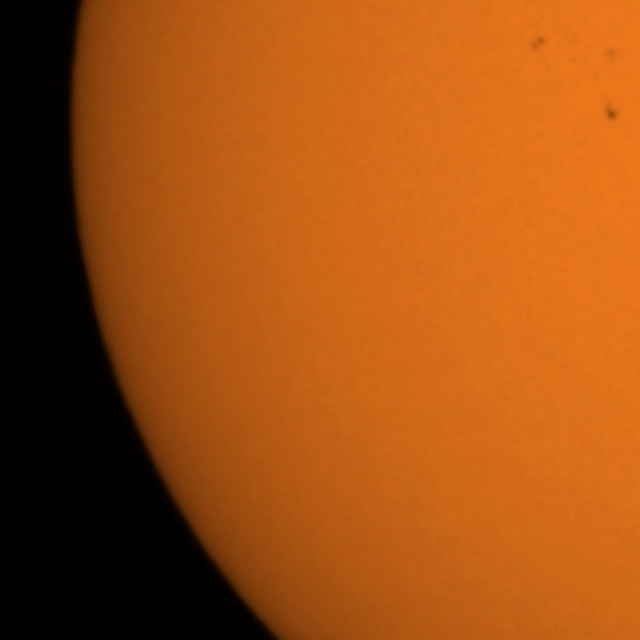sunspot: (602, 97, 622, 125), (526, 33, 548, 56), (602, 46, 620, 65)
